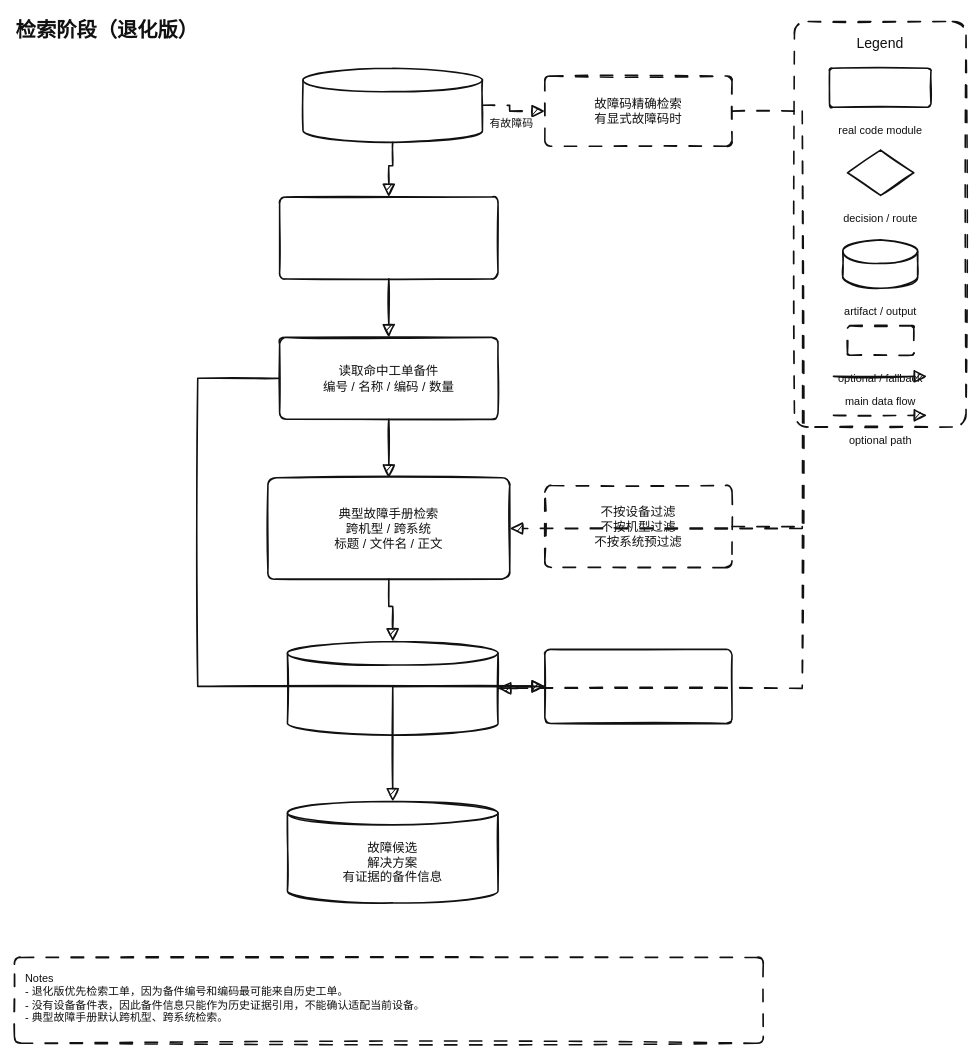
Some shapes in this 980 by 1057 pixel diagram are drawn without their labels. Here are the shapes that lost their labels. From the top down, the centre of each, then its label:
(392,105): 退化版 Query JSON
(388,237): 工单检索 故障现象 / 部件+异常类型
(392,688): 证据包整理 工单 / 手册 / 故障码
(638,686): 备件证据标注 未做设备适配校验
